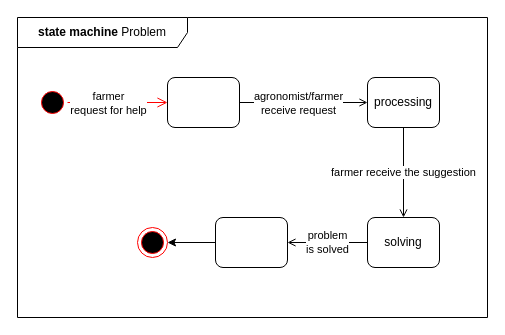
This 505x335 diagram has some shape labels left out. The shapes that lost their labels are listed below. From the top down, each one's centre as x and y in pixels, then its label:
the point at 203,102: open
the point at 251,242: close
